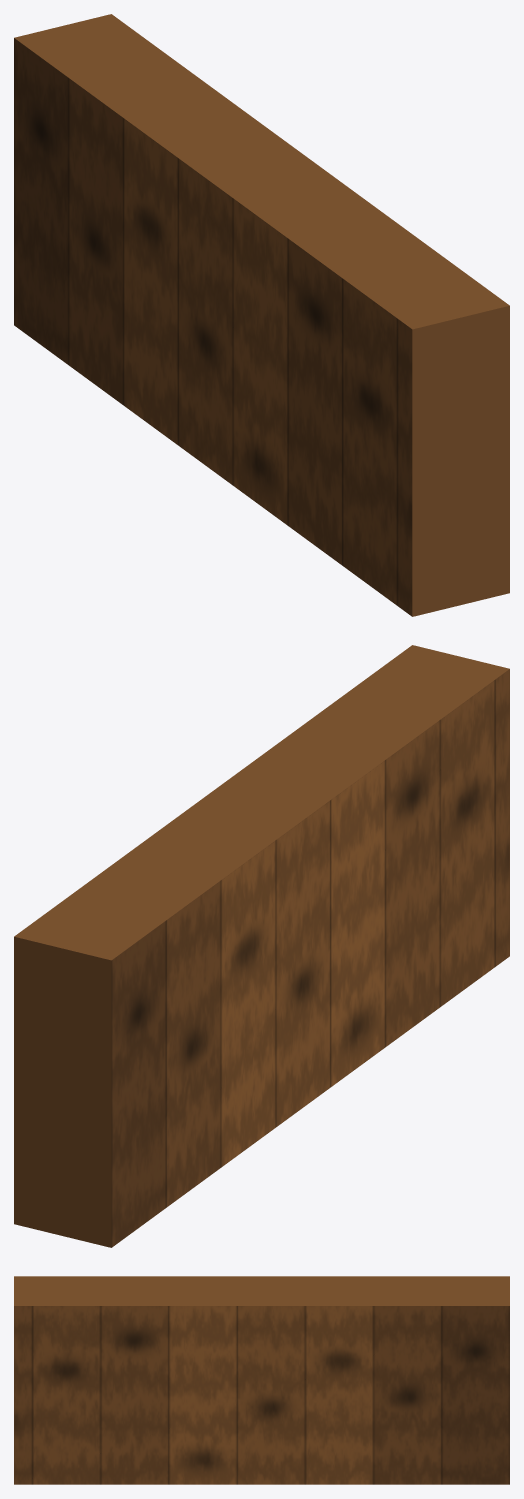
File: wood_wall.glb
3 renders of one model, top to bottom at view 1: azimuth 30°, elevation 25°; view 2: azimuth 150°, elevation 25°; view 3: azimuth 270°, elevation 25°, orthographic. The views are drawn at different scales.
Parts seen in each view (by area): view 1: wood_wall; view 2: wood_wall; view 3: wood_wall.
Part boxes in pixels (x1,y1,x2,y2): wood_wall: (14, 14, 509, 616); wood_wall: (14, 645, 509, 1247); wood_wall: (14, 1276, 509, 1484).
Bounding box in the file's own units: 4.1 × 11.55 × 29.02.
1 material, 1 textured.
